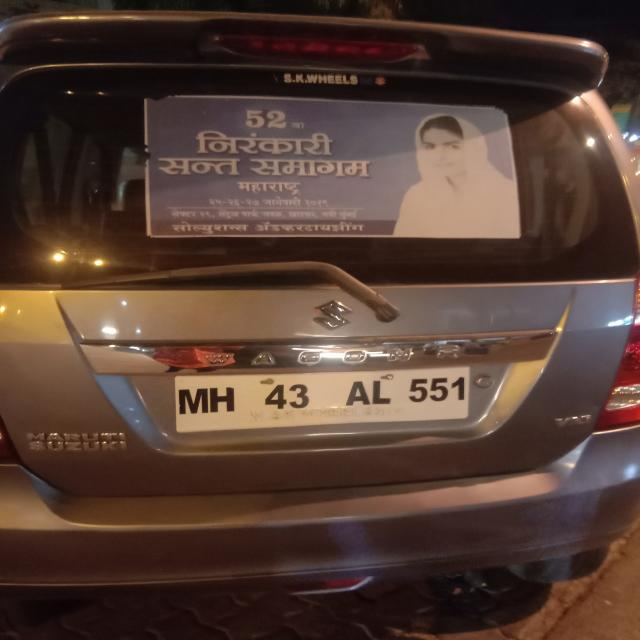Number-Plate: (176, 370, 471, 423)
